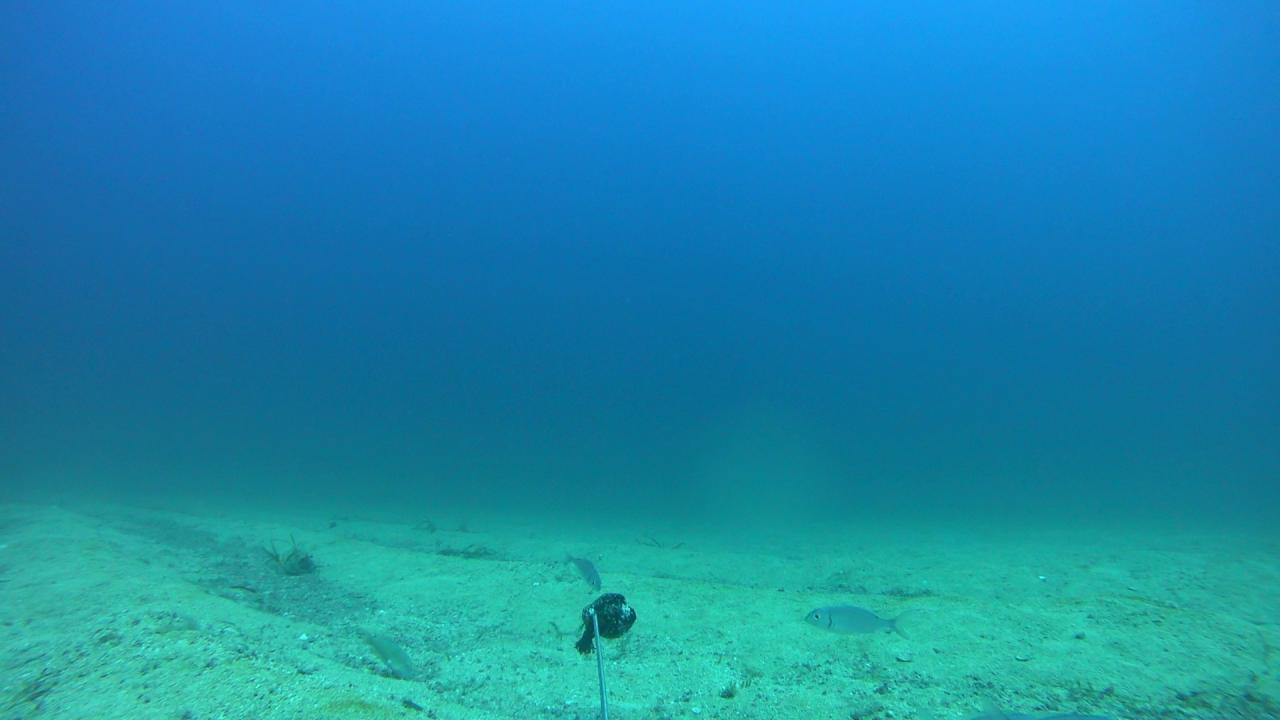pagellus: (802, 606, 915, 641), (562, 550, 599, 591)
